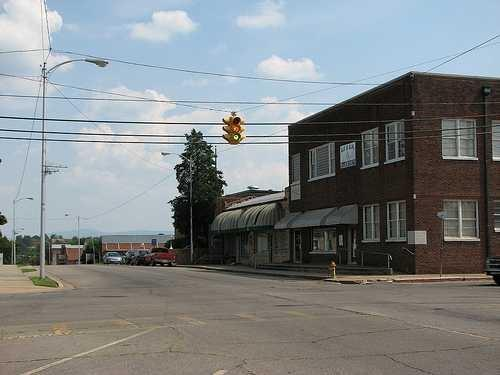red: (231, 132, 242, 142)
